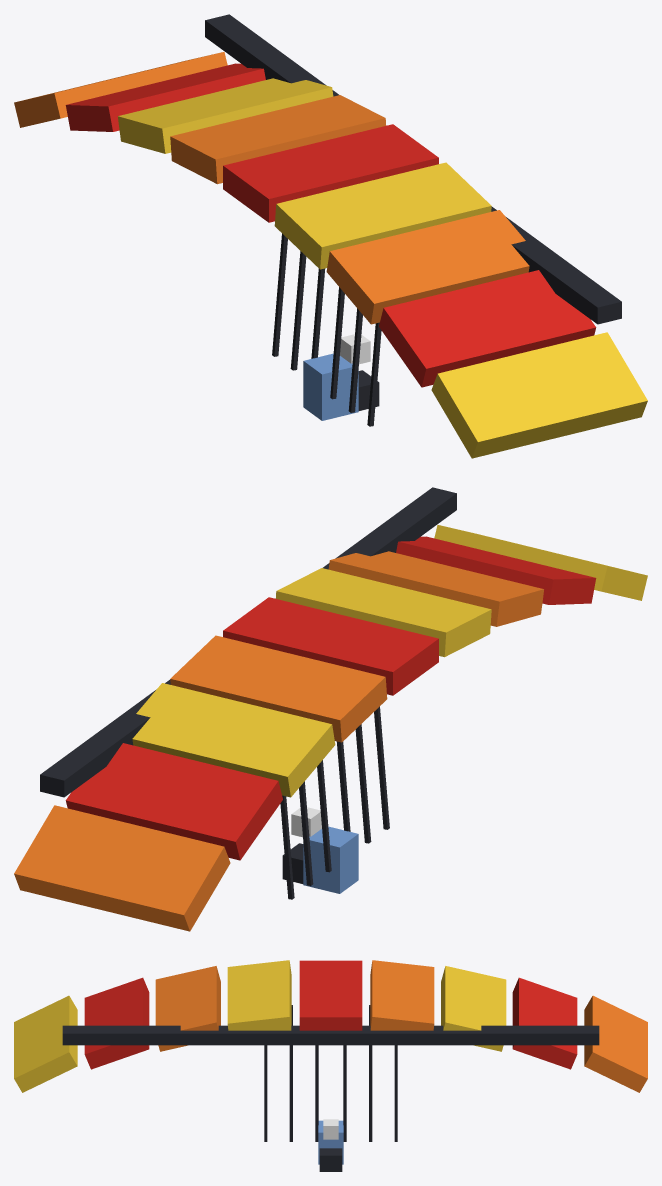
The model's file is parapente.obj.
3 renders of one model, top to bottom at view 1: azimuth 30°, elevation 25°; view 2: azimuth 150°, elevation 25°; view 3: azimuth 270°, elevation 25°, orthographic. The views are drawn at different scales.
Visible parts, largest first — view 1: parapente; view 2: parapente; view 3: parapente.
Part boxes in pixels (left/top/right/bottom): parapente: left=14, top=14, right=647, bottom=458; parapente: left=14, top=487, right=647, bottom=931; parapente: left=14, top=960, right=647, bottom=1171.
Size of the model in its own units: 2.22 by 2.94 by 9.93.
